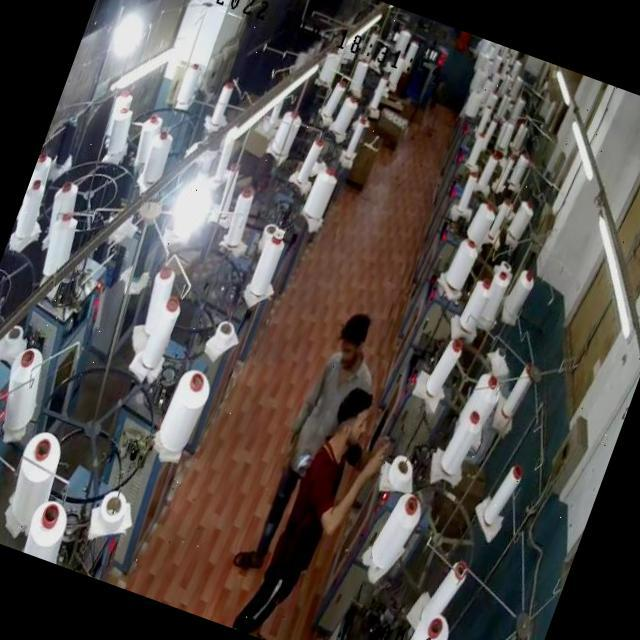person: (241, 378, 381, 640), (248, 310, 382, 578)
